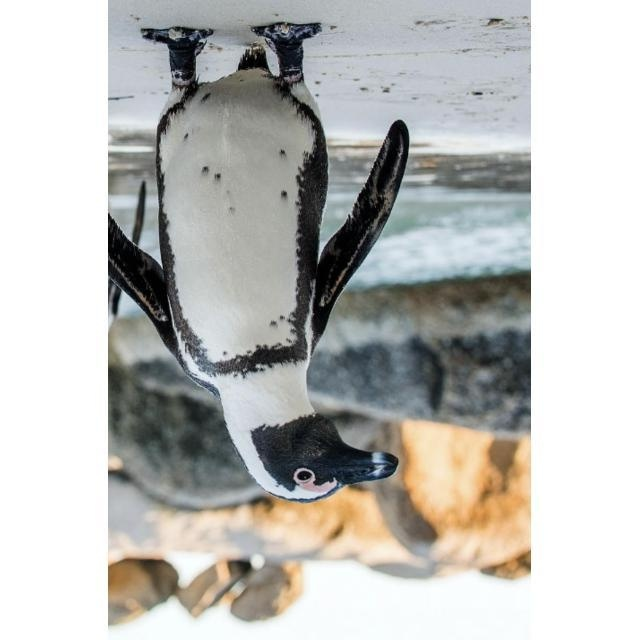penguin: (110, 21, 410, 501)
